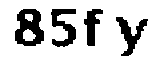5: (48, 4, 79, 51)
8: (13, 4, 46, 50)
f: (82, 6, 105, 52)
y: (111, 14, 149, 60)
